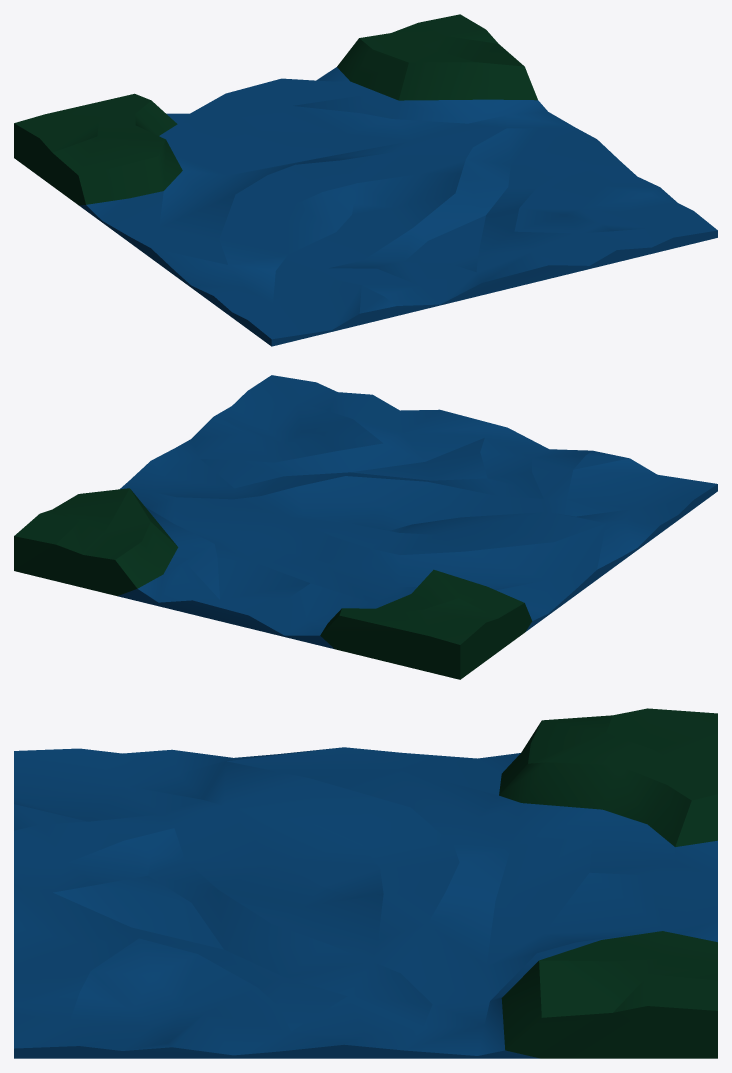
Rendered from Water_River_Entrance_U.fbx.
3 renders of one model, top to bottom at view 1: azimuth 30°, elevation 25°; view 2: azimuth 150°, elevation 25°; view 3: azimuth 270°, elevation 25°, orthographic. The views are drawn at different scales.
Visible parts, largest first — view 1: Water_River_Entrance_U; view 2: Water_River_Entrance_U; view 3: Water_River_Entrance_U.
Part boxes in pixels (box(x1,y1,x2,y2)): Water_River_Entrance_U: box(14, 14, 717, 346); Water_River_Entrance_U: box(14, 375, 717, 679); Water_River_Entrance_U: box(14, 708, 717, 1058).
Size of the model in its own units: 147 by 14.83 by 147.
